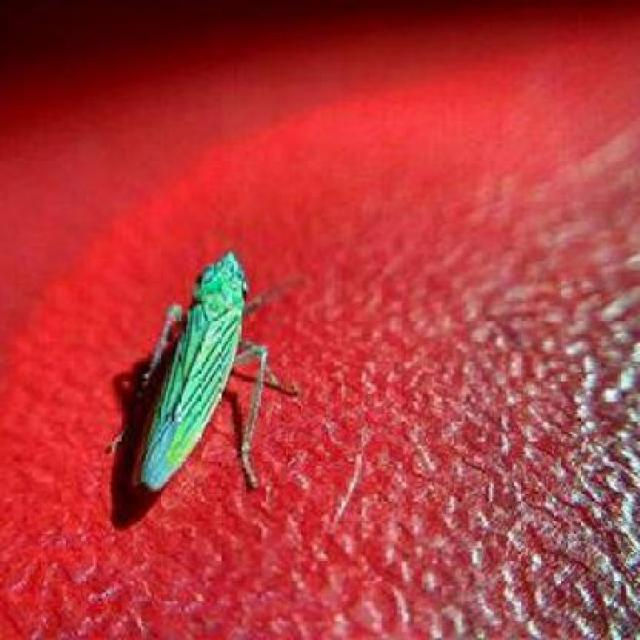green-leafhopper: (131, 246, 292, 497)
